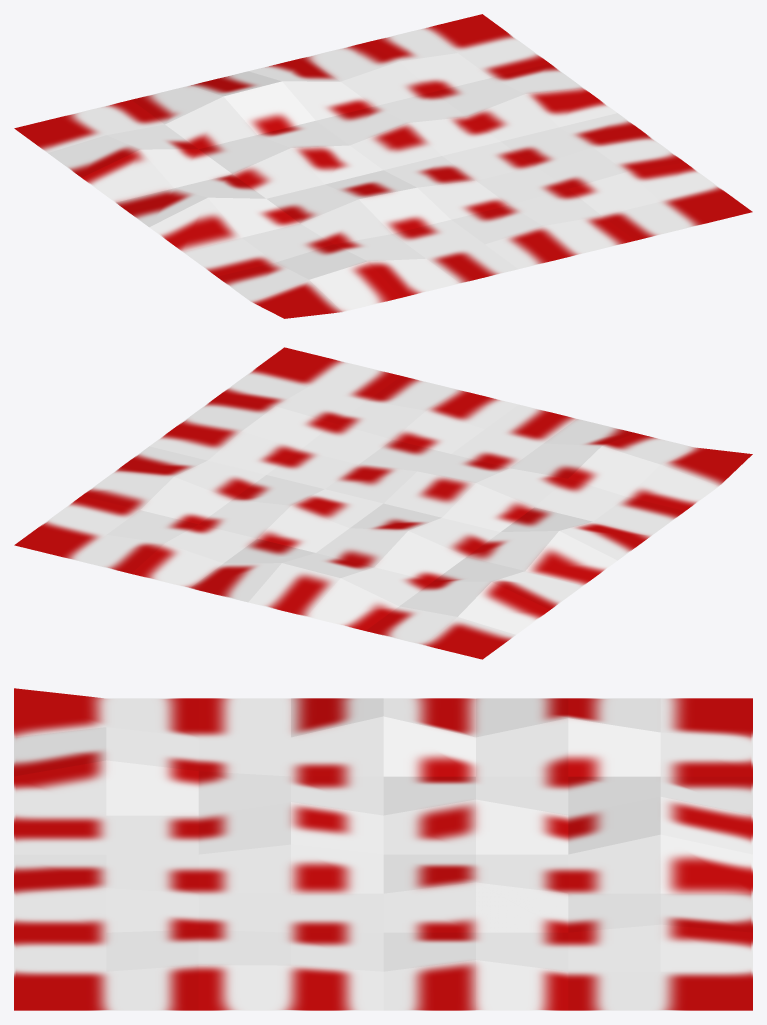
File: Picnic Blanket.glb
The picture shows the model from 3 angles, top to bottom: view 1: azimuth 30°, elevation 25°; view 2: azimuth 150°, elevation 25°; view 3: azimuth 270°, elevation 25°; orthographic projection. The views are drawn at different scales.
Visible parts, largest first — view 1: Plane; view 2: Plane; view 3: Plane.
Boxes of the visible parts, x1=… form: Plane: x1=14, y1=14, x2=752, y2=318; Plane: x1=14, y1=347, x2=752, y2=659; Plane: x1=14, y1=688, x2=752, y2=1010.
Size of the model in its own units: 6 by 0.1888 by 6.
1 material, 1 textured.
